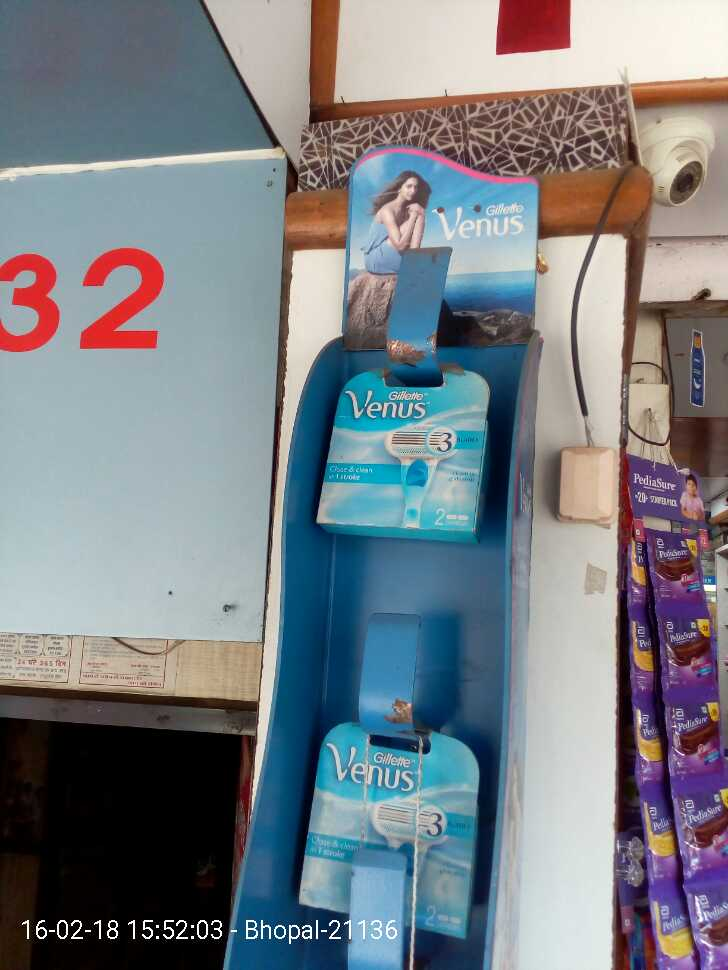venus: (289, 710, 482, 943), (305, 371, 489, 543)
